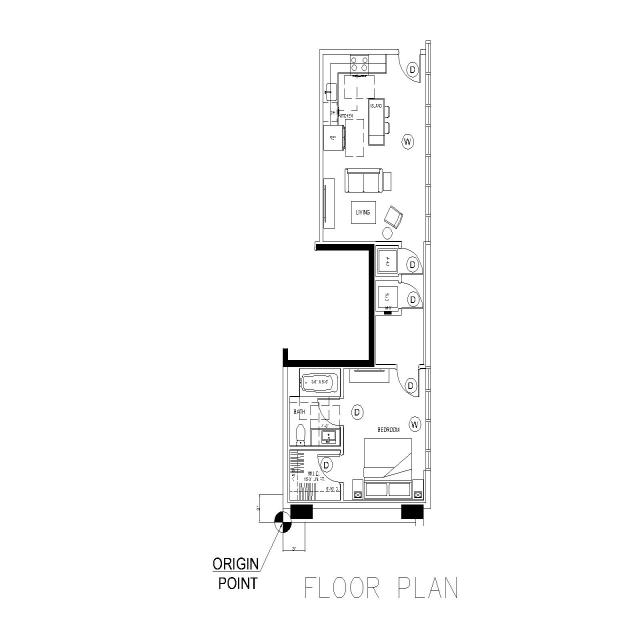Column: (400, 502, 424, 522), (290, 504, 314, 520)
Door: (398, 47, 423, 55), (396, 363, 420, 370), (339, 396, 344, 426), (397, 281, 402, 309), (340, 451, 344, 484), (398, 246, 402, 276)
Window: (426, 39, 431, 243), (426, 366, 432, 468)
